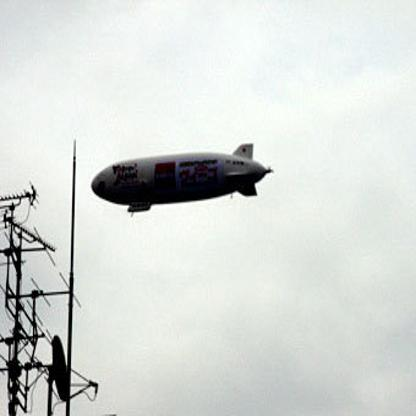Airship: (88, 142, 278, 216)
